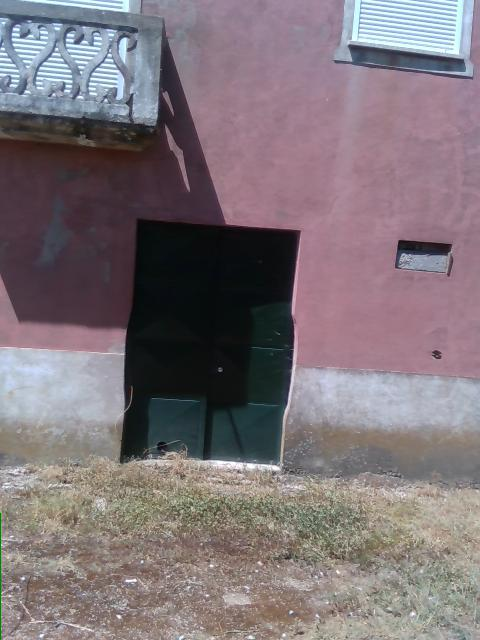door: (115, 219, 302, 470)
